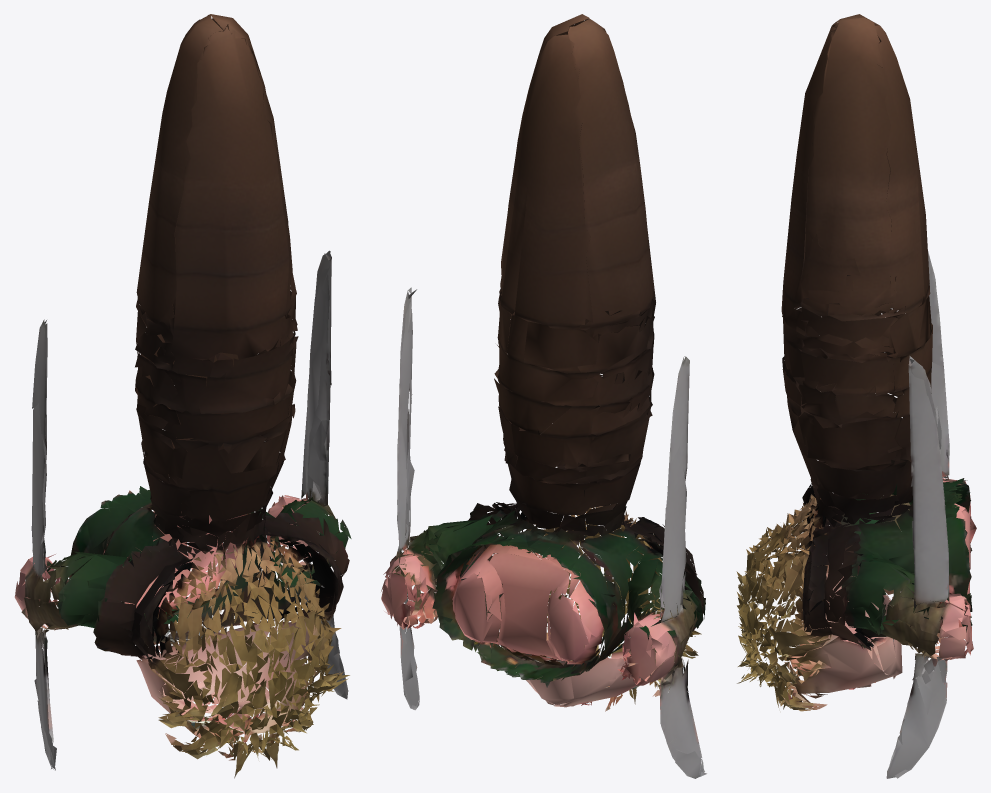
File: hero_survivor_toon.glb
The picture shows the model from 3 angles, left to right: view 1: azimuth 30°, elevation 25°; view 2: azimuth 150°, elevation 25°; view 3: azimuth 270°, elevation 25°; orthographic projection. The views are drawn at different scales.
Visible parts, largest first — view 1: HeroSurvivor.002; view 2: HeroSurvivor.002; view 3: HeroSurvivor.002.
Part boxes in pixels (x1,y1,x2,y2): HeroSurvivor.002: [14, 14, 351, 778]; HeroSurvivor.002: [381, 14, 706, 778]; HeroSurvivor.002: [736, 14, 976, 778].
Size of the model in its own units: 0.8194 by 1.89 by 0.5953.
1 material, 1 textured.
